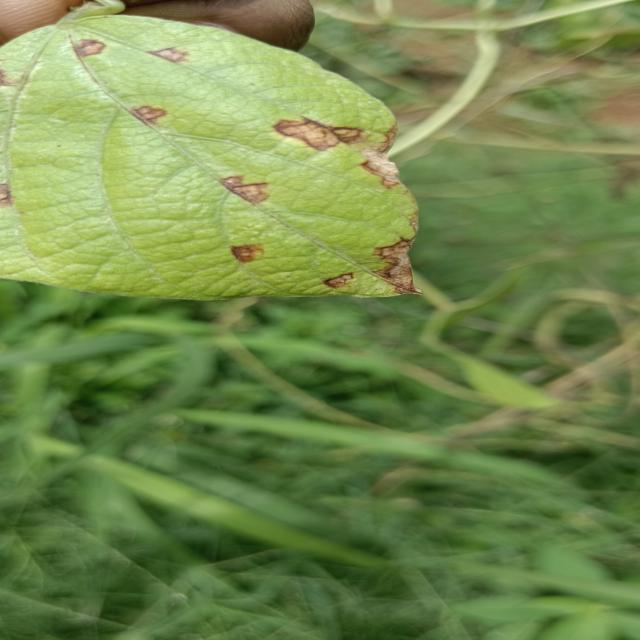Dolicos bean_cercospora leaf spot: (0, 7, 431, 298)
